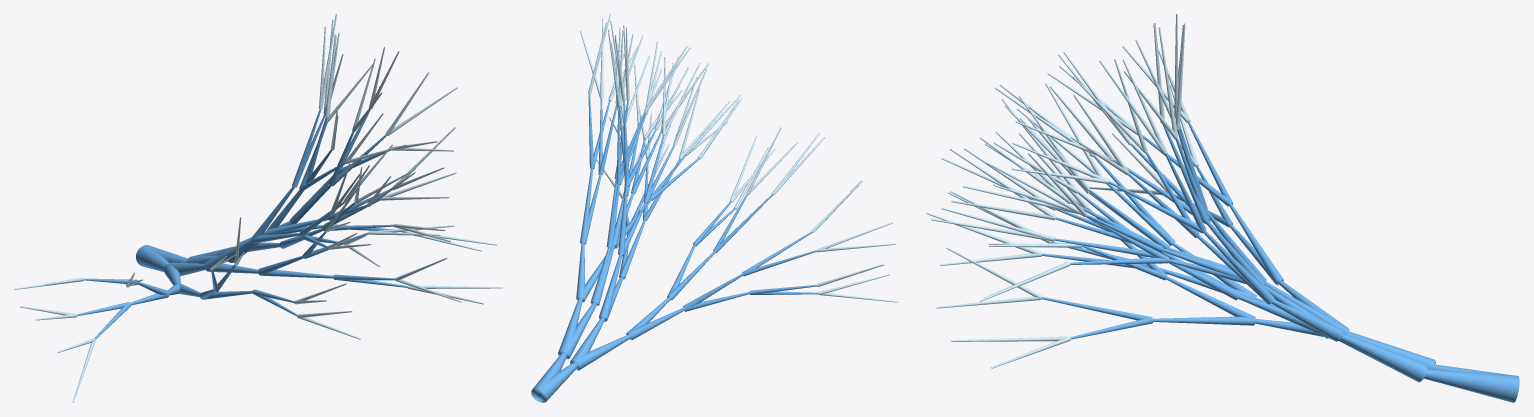
The model's file is procedural-crystal.glb.
The picture shows the model from 3 angles, left to right: view 1: azimuth 30°, elevation 25°; view 2: azimuth 150°, elevation 25°; view 3: azimuth 270°, elevation 25°; orthographic projection. The views are drawn at different scales.
Visible parts, largest first — view 1: Procedural__Crystal_Base, Procedural__Crystal_Tips; view 2: Procedural__Crystal_Base, Procedural__Crystal_Tips; view 3: Procedural__Crystal_Base, Procedural__Crystal_Tips.
Part boxes in pixels (left/top/right/bottom): Procedural__Crystal_Base: left=77, top=109, right=407, bottom=339; Procedural__Crystal_Tips: left=14, top=14, right=502, bottom=402; Procedural__Crystal_Base: left=531, top=94, right=819, bottom=402; Procedural__Crystal_Tips: left=580, top=14, right=897, bottom=302; Procedural__Crystal_Base: left=1041, top=118, right=1519, bottom=402; Procedural__Crystal_Tips: left=926, top=14, right=1198, bottom=368.
Bounding box in the file's own units: 6.13 × 4.72 × 6.05.
